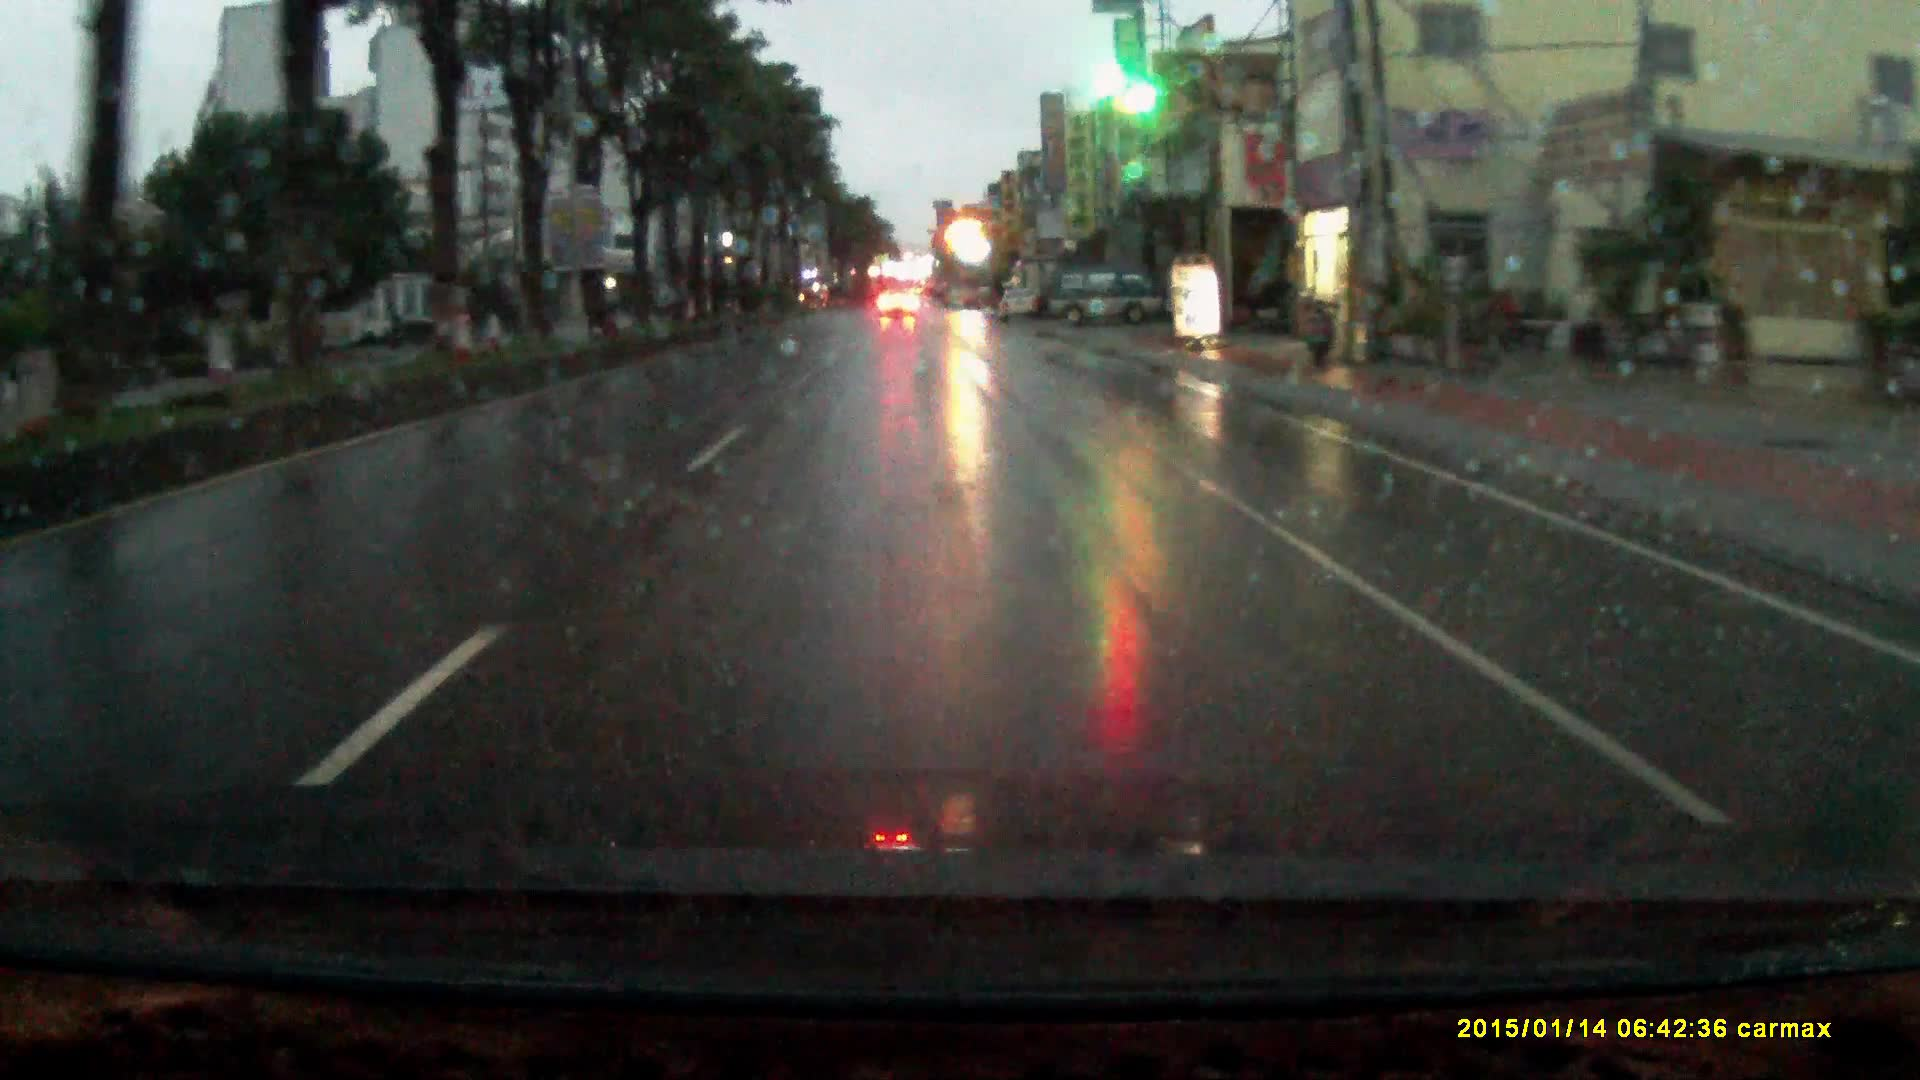vehicle: (1050, 273, 1168, 336), (998, 290, 1040, 326), (877, 287, 920, 320)
